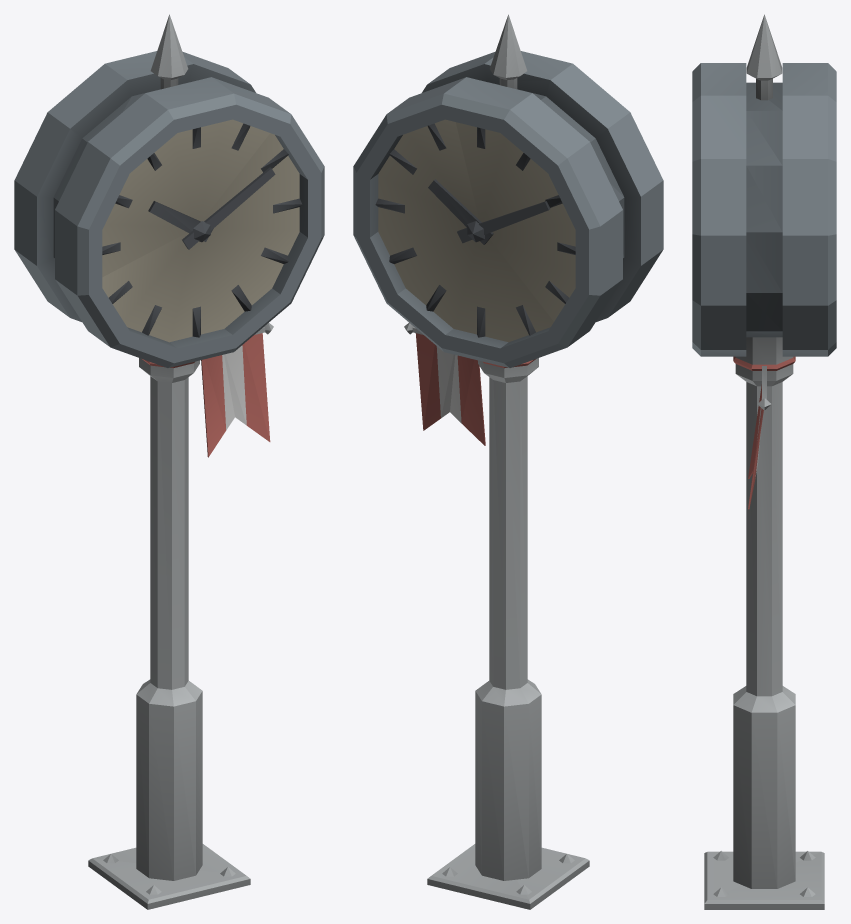
The model's file is clock.glb.
3 views of the same model, side by side, from view 1: azimuth 30°, elevation 25°; view 2: azimuth 150°, elevation 25°; view 3: azimuth 270°, elevation 25° (orthographic).
Visible parts, largest first — view 1: clock; view 2: clock; view 3: clock.
Boxes of the visible parts, box(x1,y1,x2,y2) form: clock: box(14, 14, 324, 909); clock: box(353, 14, 663, 909); clock: box(692, 14, 836, 909).
Bounding box in the file's own units: 1.44 × 4.8 × 0.72.
